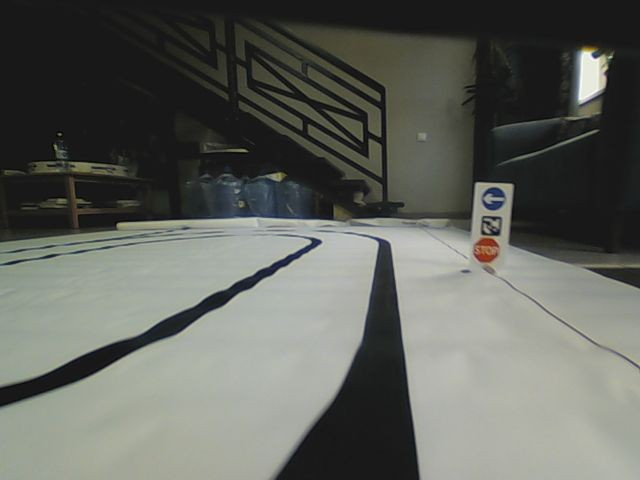Stop: (473, 237, 500, 264)
